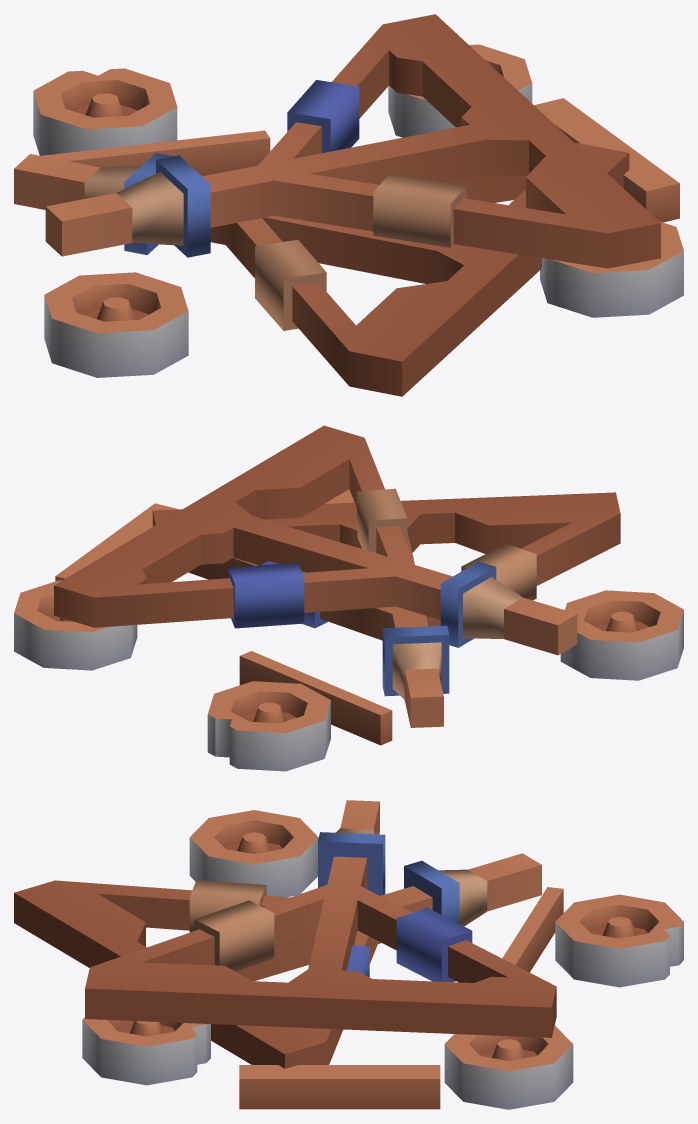
Rendered from siege-trebuchet-demolished.glb.
3 views of the same model, one above another, from view 1: azimuth 30°, elevation 25°; view 2: azimuth 150°, elevation 25°; view 3: azimuth 270°, elevation 25° (orthographic). The views are drawn at different scales.
Parts seen in each view (by area): view 1: siege-trebuchet-demolished; view 2: siege-trebuchet-demolished; view 3: siege-trebuchet-demolished.
Part boxes in pixels (bbox=[...]): siege-trebuchet-demolished: bbox=[14, 14, 683, 396]; siege-trebuchet-demolished: bbox=[14, 425, 683, 771]; siege-trebuchet-demolished: bbox=[14, 800, 683, 1109].
Bounding box in the file's own units: 1.93 × 0.3097 × 2.1.
